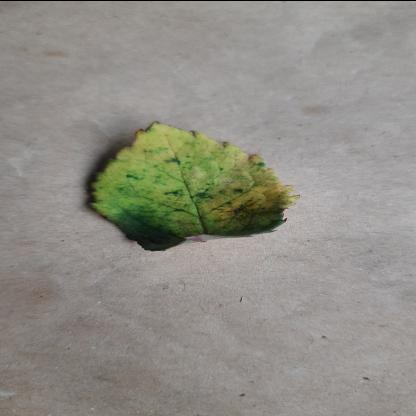downy-mildew: (88, 118, 292, 252)
